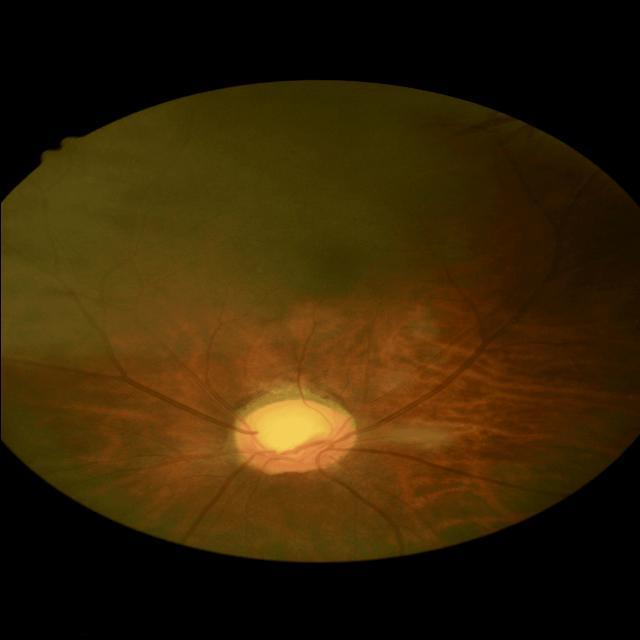cup: (245, 404, 342, 464)
disk: (235, 399, 353, 476)
